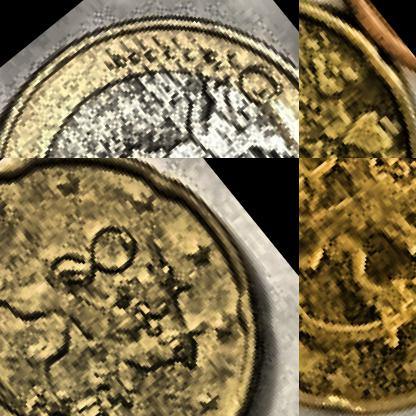coin: (0, 158, 298, 415), (0, 0, 298, 157), (299, 158, 415, 415), (299, 0, 415, 157)
